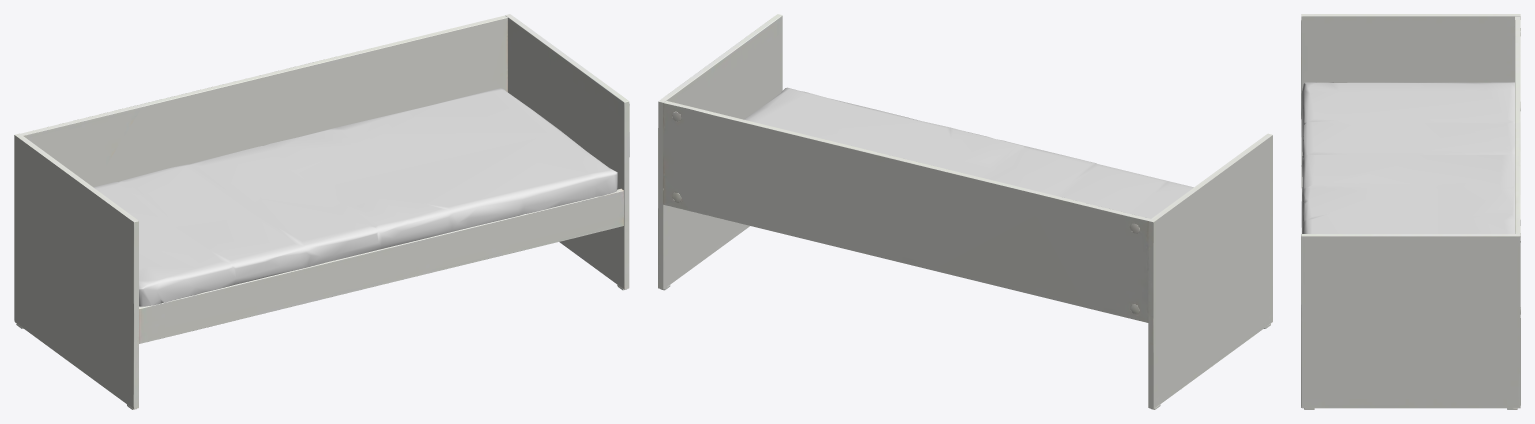
File: 60 - VIHALS - 坐臥兩用床附床墊, 白色Åfjäll 軟硬適中, 80x200 公分 IKEA 線上購物.glb
The picture shows the model from 3 angles, left to right: view 1: azimuth 30°, elevation 25°; view 2: azimuth 150°, elevation 25°; view 3: azimuth 270°, elevation 25°; orthographic projection. The views are drawn at different scales.
Visible parts, largest first — view 1: ASY_ART_00595086_S01_NV01, model; view 2: ASY_ART_00595086_S01_NV01, model; view 3: ASY_ART_00595086_S01_NV01, model.
Part boxes in pixels (box(x1,y1,x2,y2)): ASY_ART_00595086_S01_NV01: box(14, 14, 629, 409); model: box(94, 88, 617, 306); ASY_ART_00595086_S01_NV01: box(658, 14, 1272, 409); model: box(744, 87, 1193, 218); ASY_ART_00595086_S01_NV01: box(1301, 14, 1520, 409); model: box(1301, 82, 1514, 233).
Bounding box in the file's own units: 2.05 × 0.7501 × 0.8585.
2 materials, 1 textured.
